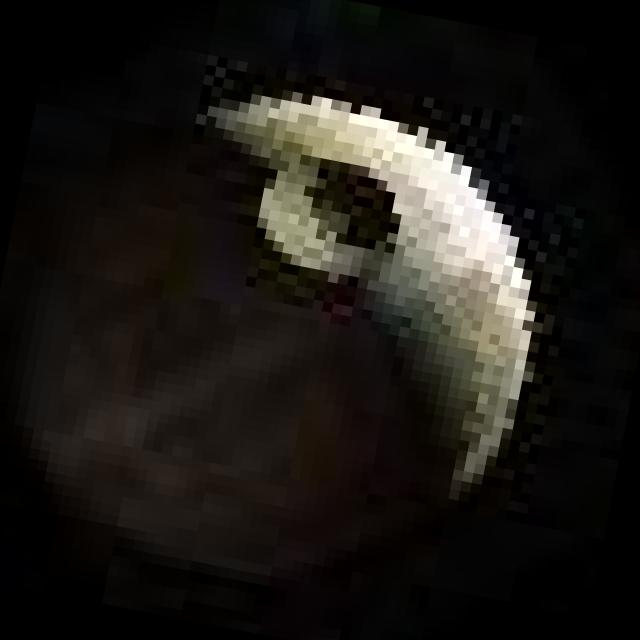Death Star: (0, 36, 595, 620)
